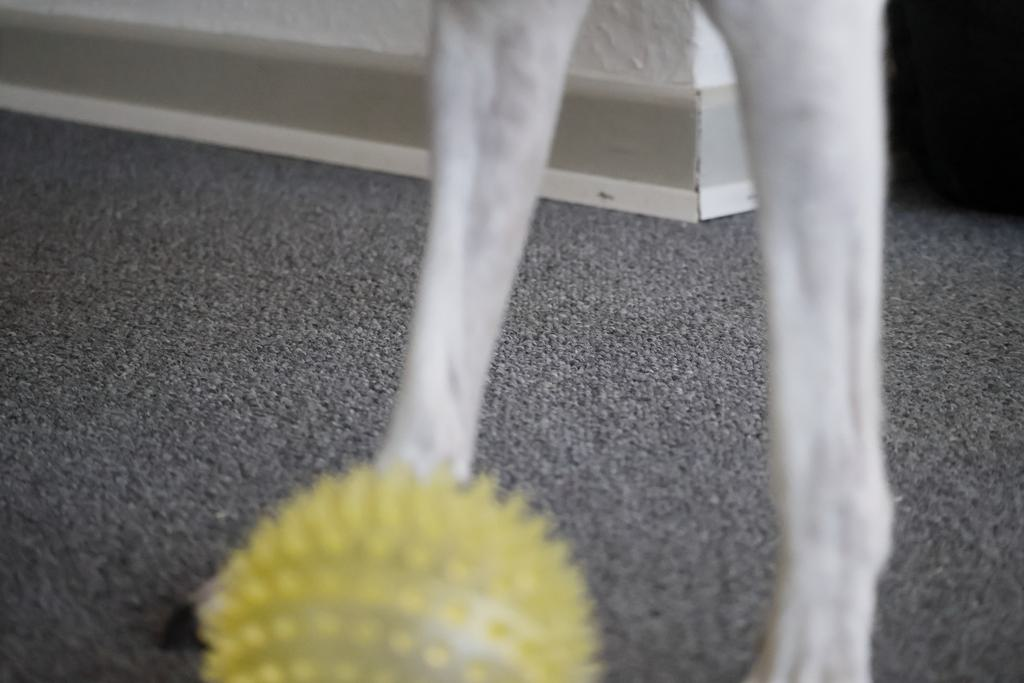Dog: (168, 0, 915, 683)
